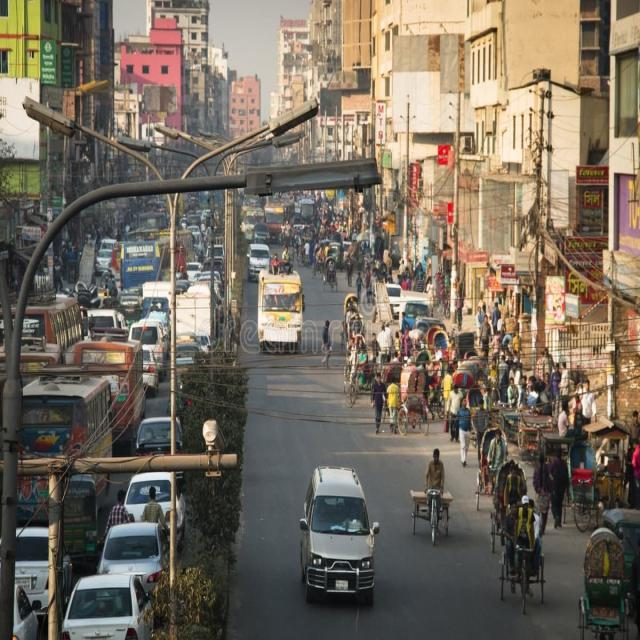Bus: (258, 268, 308, 362)
Car: (65, 566, 152, 640), (100, 513, 165, 581)
Rickshaw: (576, 524, 634, 640), (499, 495, 550, 618)
Van: (410, 476, 455, 546)
Zeep: (299, 463, 382, 615)
